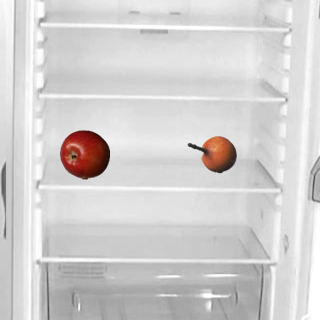Apple Braeburn: (59, 129, 109, 179)
Granadilla: (186, 129, 236, 179)
